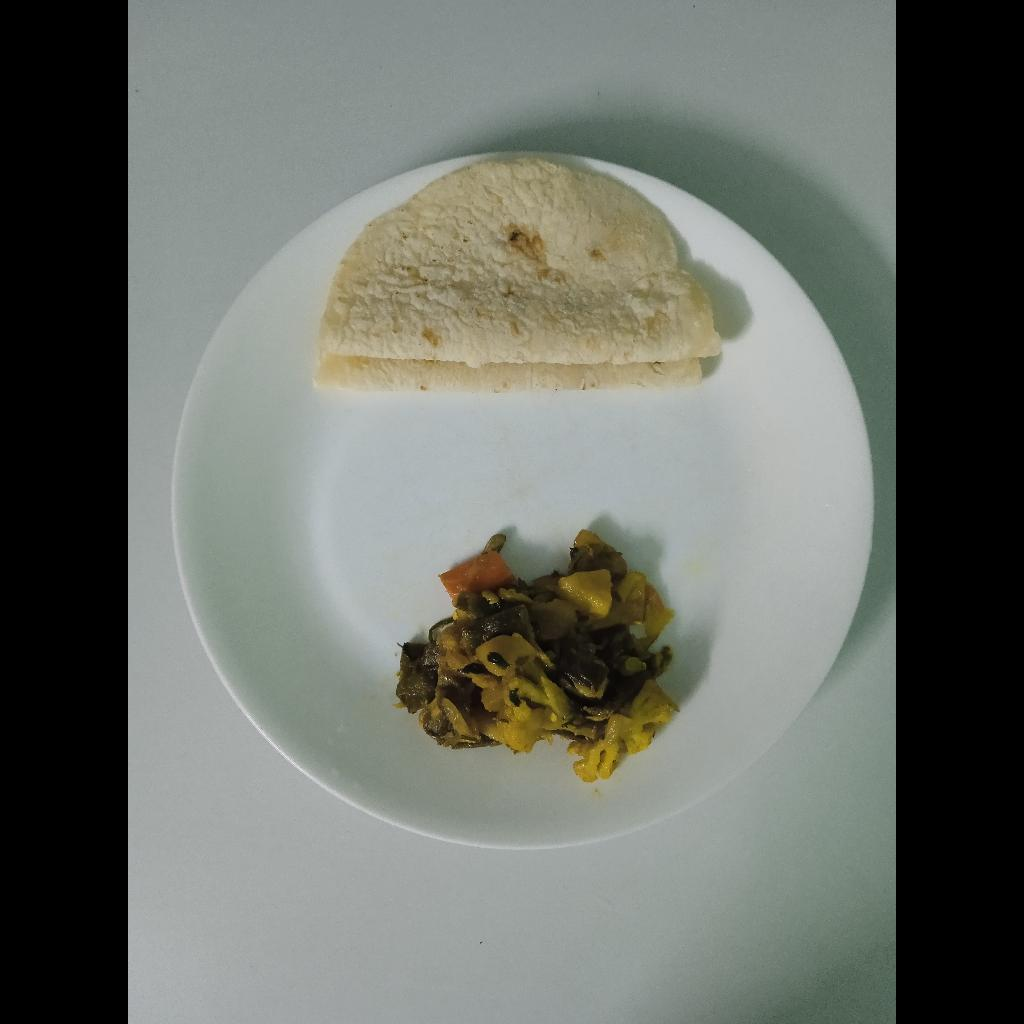ruti: (310, 154, 726, 399)
vegetable: (400, 532, 679, 786)
